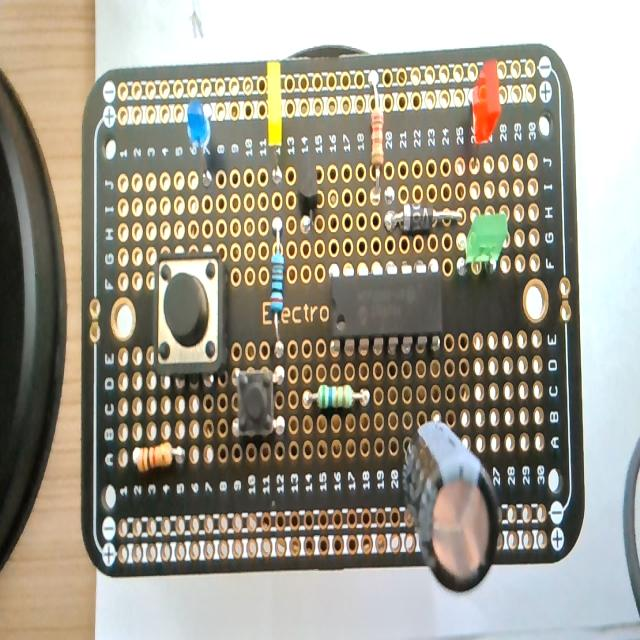Electrolytic capacitor: (400, 416, 501, 596)
IC: (332, 271, 443, 345)
diode: (386, 204, 462, 235)
led: (458, 207, 512, 274), (264, 56, 288, 185), (182, 96, 218, 166)
resistor: (268, 228, 286, 354), (368, 73, 384, 185), (132, 441, 182, 473), (304, 386, 368, 410)
switch: (154, 254, 224, 374), (232, 368, 282, 437)
transistor: (294, 150, 322, 238)
